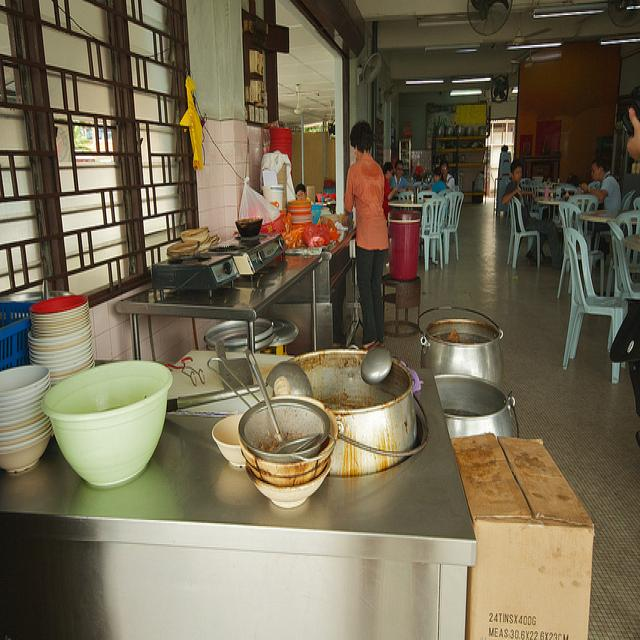chair: (563, 227, 627, 381), (557, 203, 605, 300), (606, 221, 640, 300), (507, 195, 541, 269), (422, 195, 448, 271), (443, 191, 464, 266), (567, 194, 599, 235), (522, 180, 547, 219), (616, 209, 640, 237), (398, 190, 414, 200), (518, 178, 531, 190), (588, 181, 601, 191)
dining table: (114, 248, 331, 360), (239, 175, 358, 260), (534, 186, 589, 221), (579, 208, 620, 223), (624, 234, 640, 252), (388, 200, 427, 207), (522, 181, 553, 188), (553, 182, 577, 190)
